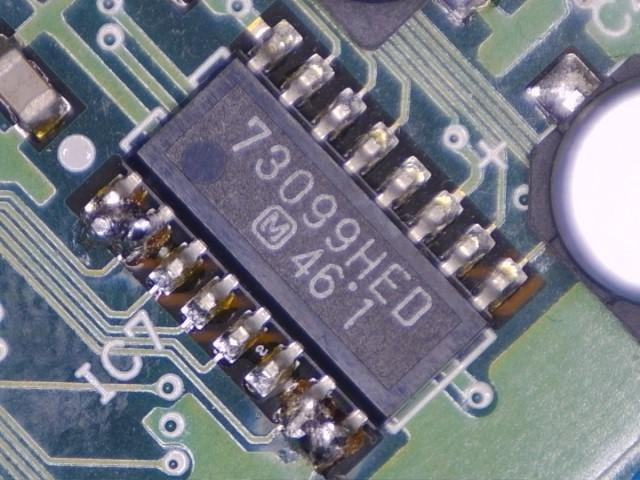pcb_defect: (79, 171, 176, 266), (274, 375, 368, 473)
